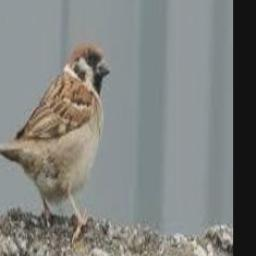Sparrow: (0, 43, 111, 239)
